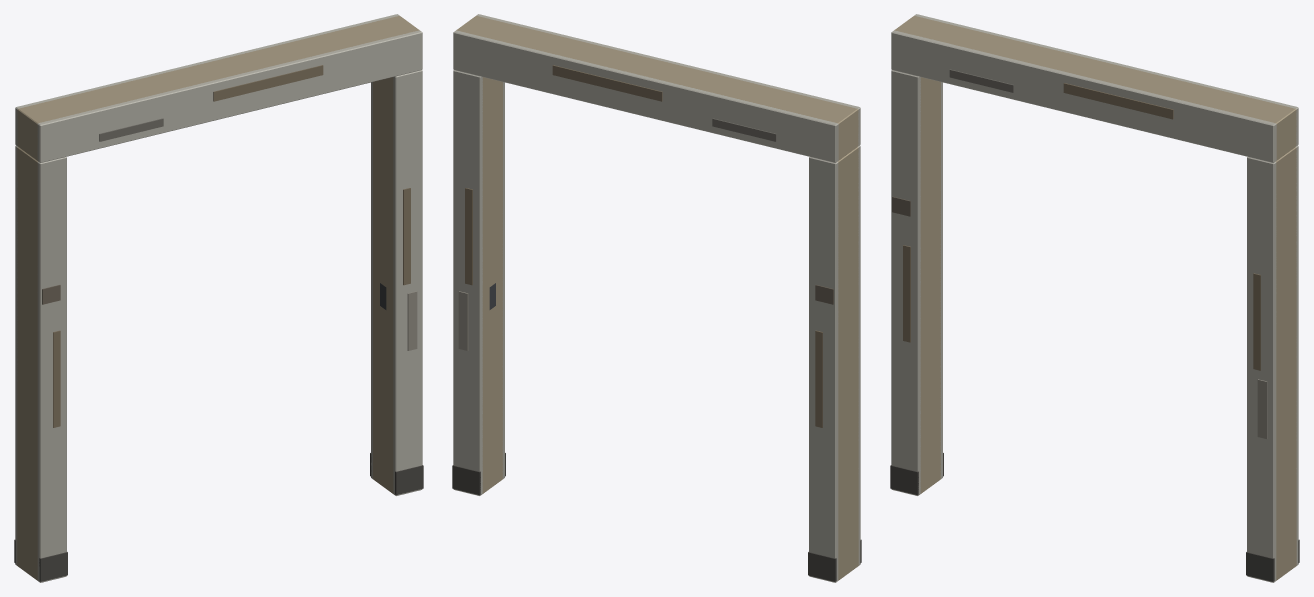
The model's file is bld_doorframe_interior.fbx.
3 renders of one model, left to right at view 1: azimuth 30°, elevation 25°; view 2: azimuth 150°, elevation 25°; view 3: azimuth 330°, elevation 25°, orthographic.
Visible parts, largest first — view 1: bld_doorframe_interior; view 2: bld_doorframe_interior; view 3: bld_doorframe_interior.
Part boxes in pixels (x1,y1,x2,y2): bld_doorframe_interior: [14, 14, 423, 582]; bld_doorframe_interior: [452, 14, 861, 582]; bld_doorframe_interior: [890, 14, 1299, 582].
Size of the model in its own units: 2.1 by 2.4 by 0.251.
